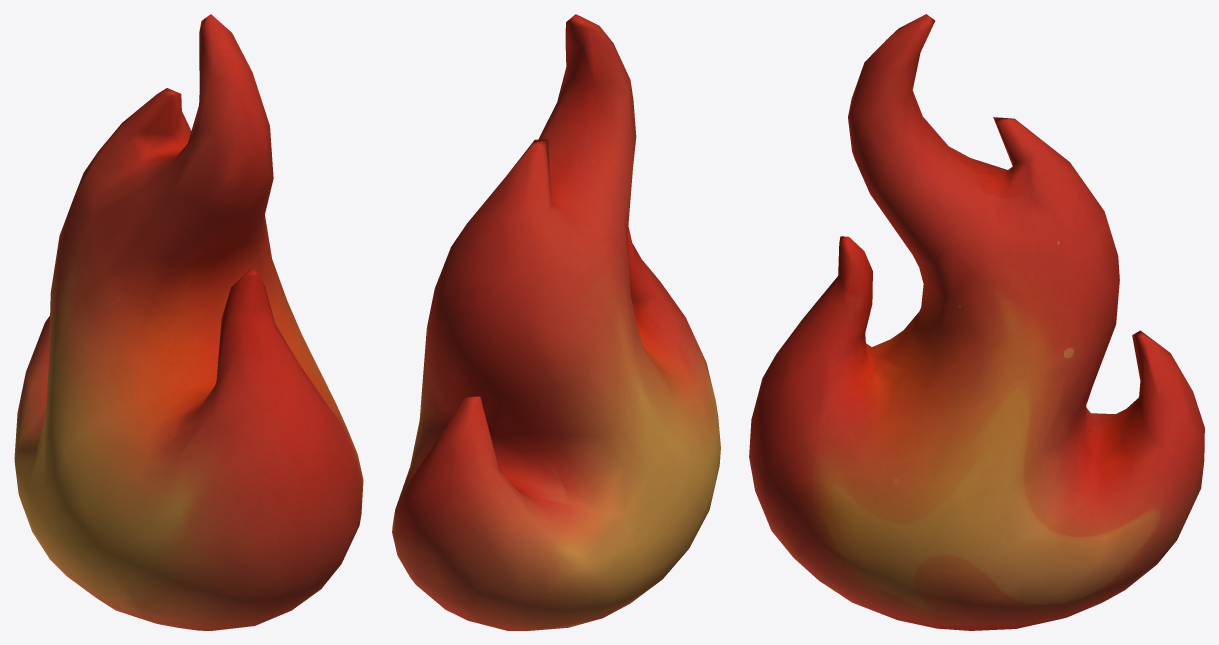
File: fire2.glb
The picture shows the model from 3 angles, left to right: view 1: azimuth 30°, elevation 25°; view 2: azimuth 150°, elevation 25°; view 3: azimuth 270°, elevation 25°; orthographic projection. The views are drawn at different scales.
Visible parts, largest first — view 1: tripo_node_8b1514a5-d0cb-43fc-8189-0923342b4707; view 2: tripo_node_8b1514a5-d0cb-43fc-8189-0923342b4707; view 3: tripo_node_8b1514a5-d0cb-43fc-8189-0923342b4707.
Boxes of the visible parts, x1,y1,x2,y2 form: tripo_node_8b1514a5-d0cb-43fc-8189-0923342b4707: (14,14,363,630); tripo_node_8b1514a5-d0cb-43fc-8189-0923342b4707: (392,14,720,630); tripo_node_8b1514a5-d0cb-43fc-8189-0923342b4707: (749,14,1204,630).
Bounding box in the file's own units: 0.4801 × 1 × 0.7053.
1 material, 1 textured.
